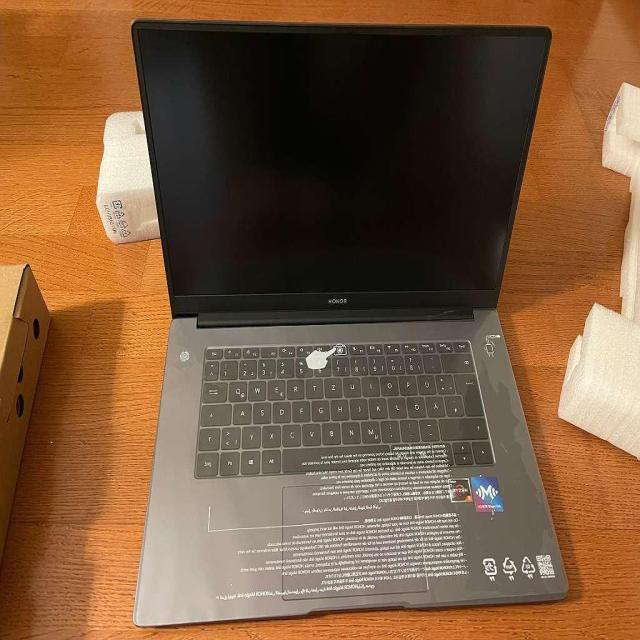0: (385, 353, 403, 372)
1: (218, 358, 236, 379)
2: (238, 358, 256, 378)
3: (257, 357, 275, 377)
4: (276, 357, 293, 377)
5: (294, 357, 312, 376)
6: (314, 355, 330, 375)
7: (331, 355, 349, 374)
8: (350, 355, 367, 374)
9: (367, 354, 385, 373)
a: (231, 400, 250, 422)
accent: (422, 352, 440, 371)
ae: (425, 393, 445, 415)
alt-left: (260, 447, 279, 472)
b: (321, 420, 340, 443)
c: (281, 422, 300, 445)
caret: (202, 359, 217, 379)
comma: (379, 417, 399, 441)
d: (271, 399, 290, 421)
del: (440, 351, 472, 370)
e: (266, 377, 285, 398)
enter: (453, 371, 483, 414)
f: (291, 398, 309, 420)
g: (310, 398, 328, 419)
h: (330, 397, 349, 418)
hash: (444, 393, 463, 414)
i: (361, 374, 378, 394)
j: (349, 396, 367, 417)
k: (368, 395, 387, 417)
keyboard: (191, 336, 496, 480)
l: (386, 394, 406, 416)
less: (219, 424, 239, 448)
m: (360, 418, 379, 442)
minus: (418, 417, 438, 439)
n: (340, 419, 360, 442)
o: (379, 374, 398, 395)
oe: (406, 394, 425, 416)
p: (398, 374, 416, 394)
plus: (435, 372, 454, 392)
point: (399, 418, 418, 440)
q: (227, 379, 246, 400)
r: (286, 377, 303, 398)
s: (251, 400, 270, 422)
shift-left: (197, 426, 218, 448)
shift-lock: (199, 401, 230, 423)
shift-right: (437, 415, 487, 437)
space: (282, 444, 391, 473)
ss: (404, 353, 422, 372)
strg-left: (195, 449, 218, 474)
t: (304, 376, 322, 397)
tab: (201, 379, 226, 401)
u: (342, 375, 360, 395)
ue: (416, 373, 435, 393)
v: (302, 421, 320, 443)
w: (247, 378, 265, 399)
x: (261, 422, 280, 446)
y: (241, 423, 260, 447)
z: (323, 375, 341, 396)
